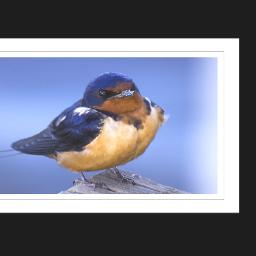Swallow: (0, 70, 170, 192)
